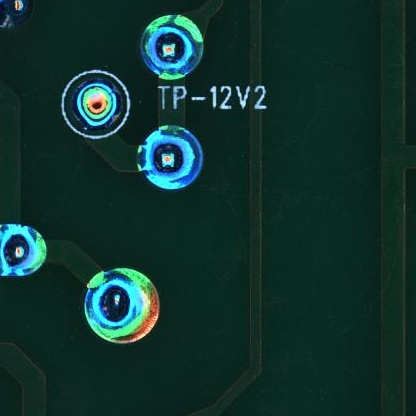spot: (86, 268, 160, 344), (138, 124, 204, 188), (141, 14, 205, 78), (67, 75, 124, 133), (1, 222, 48, 279)
